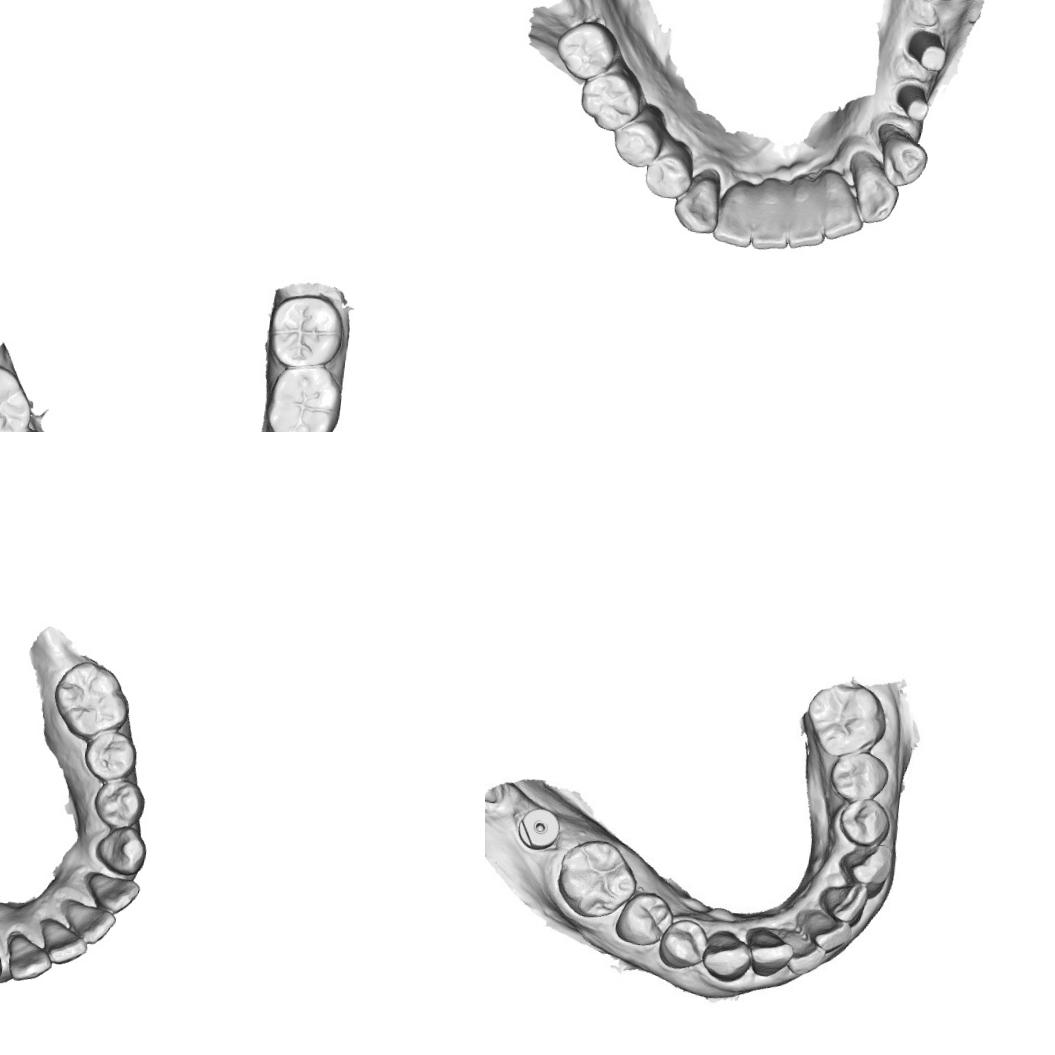abutment: (900, 24, 953, 75), (890, 78, 934, 124)
canine: (843, 149, 904, 227), (671, 163, 724, 235), (835, 840, 898, 900), (92, 822, 150, 879), (700, 928, 754, 984)
implant: (514, 802, 566, 860)
incisor: (814, 168, 868, 243), (748, 175, 796, 254), (784, 176, 830, 252), (712, 176, 759, 250), (56, 896, 118, 946), (2, 928, 56, 984), (81, 868, 142, 915), (36, 916, 91, 967), (745, 924, 793, 982), (821, 880, 872, 928), (799, 910, 850, 954), (782, 931, 828, 977)
molar: (552, 833, 642, 924), (798, 676, 891, 760), (48, 656, 134, 744), (264, 289, 350, 373), (261, 362, 345, 432), (576, 64, 645, 137), (552, 16, 623, 84), (0, 359, 38, 432)
premolar: (610, 99, 668, 170), (872, 122, 932, 189), (641, 137, 698, 201), (79, 727, 139, 787), (824, 748, 890, 802), (835, 797, 899, 851), (90, 776, 148, 833), (619, 897, 674, 943), (660, 920, 709, 968)
